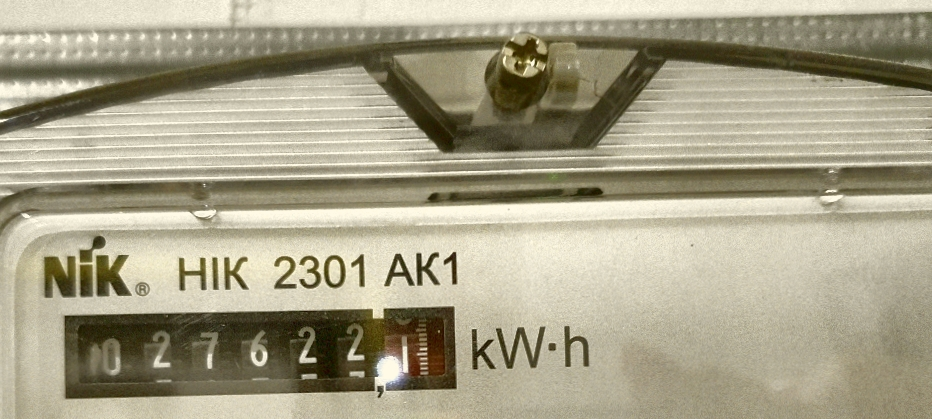0: (99, 334, 124, 377)
1: (397, 332, 413, 375)
2: (149, 328, 173, 371), (294, 324, 319, 365), (344, 320, 367, 362)
6: (247, 327, 270, 368)
7: (198, 329, 221, 373)
screen: (51, 296, 470, 405)
